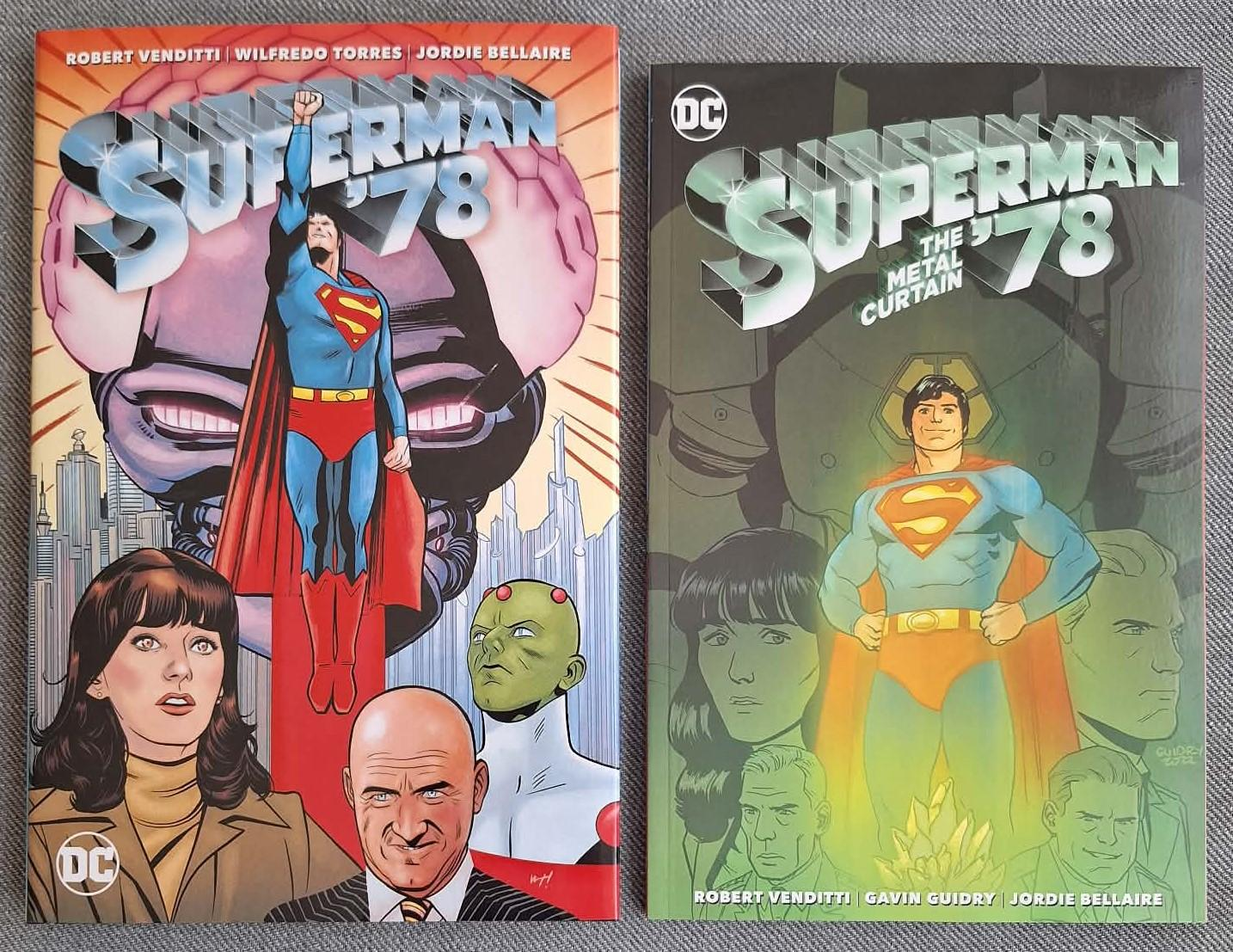comic: (28, 23, 618, 922), (648, 64, 1204, 922)
